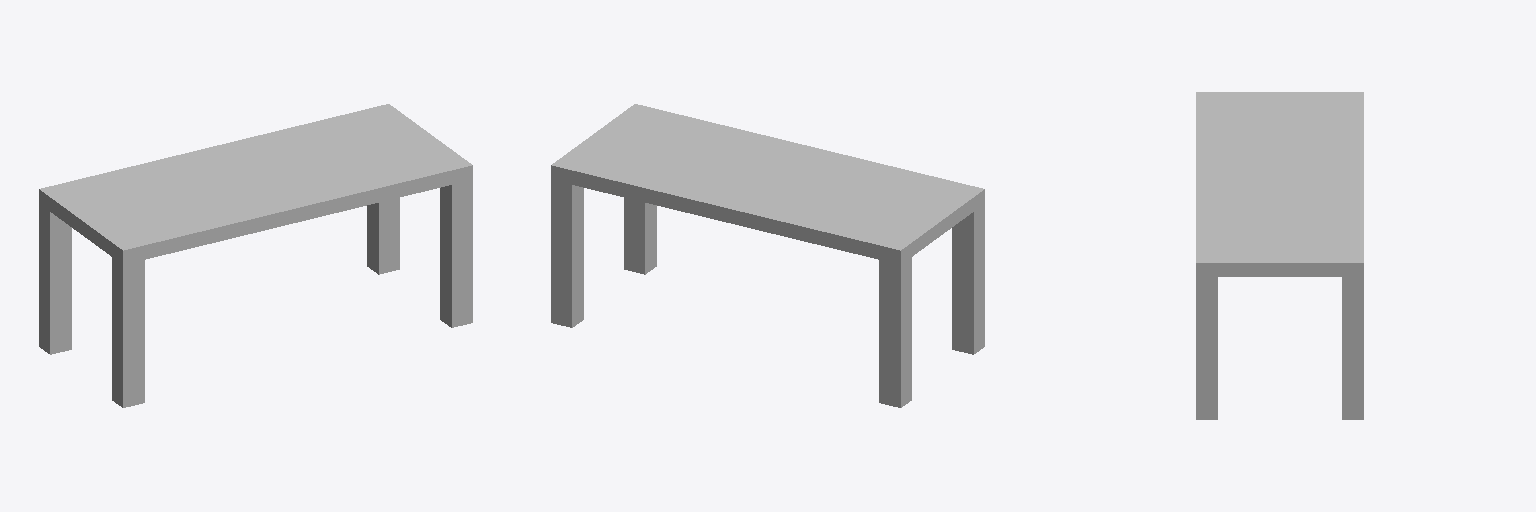
File: table.obj
3 renders of one model, left to right at view 1: azimuth 30°, elevation 25°; view 2: azimuth 150°, elevation 25°; view 3: azimuth 270°, elevation 25°, orthographic.
Visible parts, largest first — view 1: Cube; view 2: Cube; view 3: Cube.
Part boxes in pixels (bbox=[...]): Cube: bbox=[39, 104, 472, 407]; Cube: bbox=[551, 104, 984, 407]; Cube: bbox=[1196, 92, 1363, 419].
Bounding box in the file's own units: 3.43 × 1.48 × 1.43.